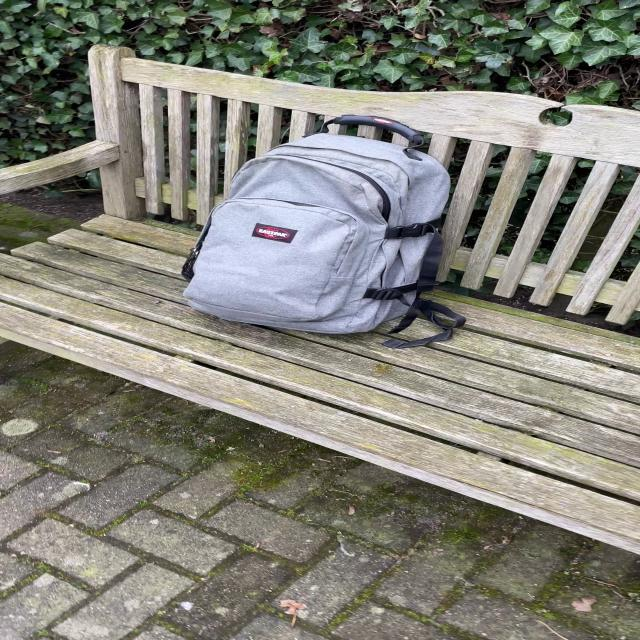backpack: (170, 112, 461, 338)
